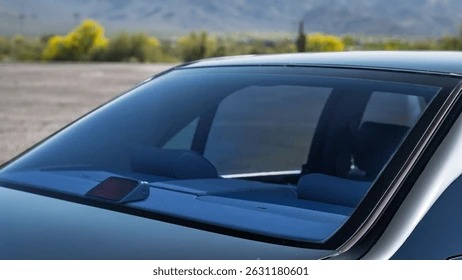car: (2, 52, 462, 272)
